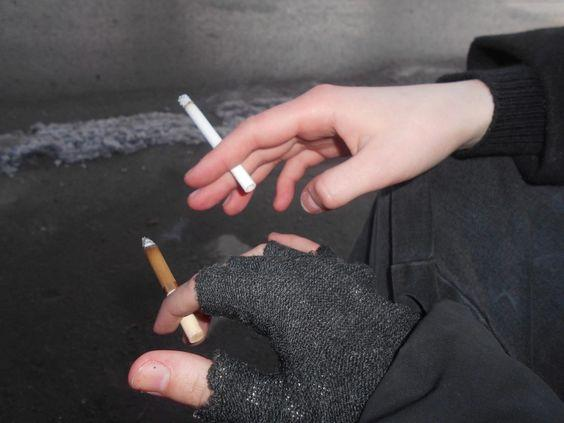cigarette: (177, 94, 256, 193), (142, 235, 205, 343)
